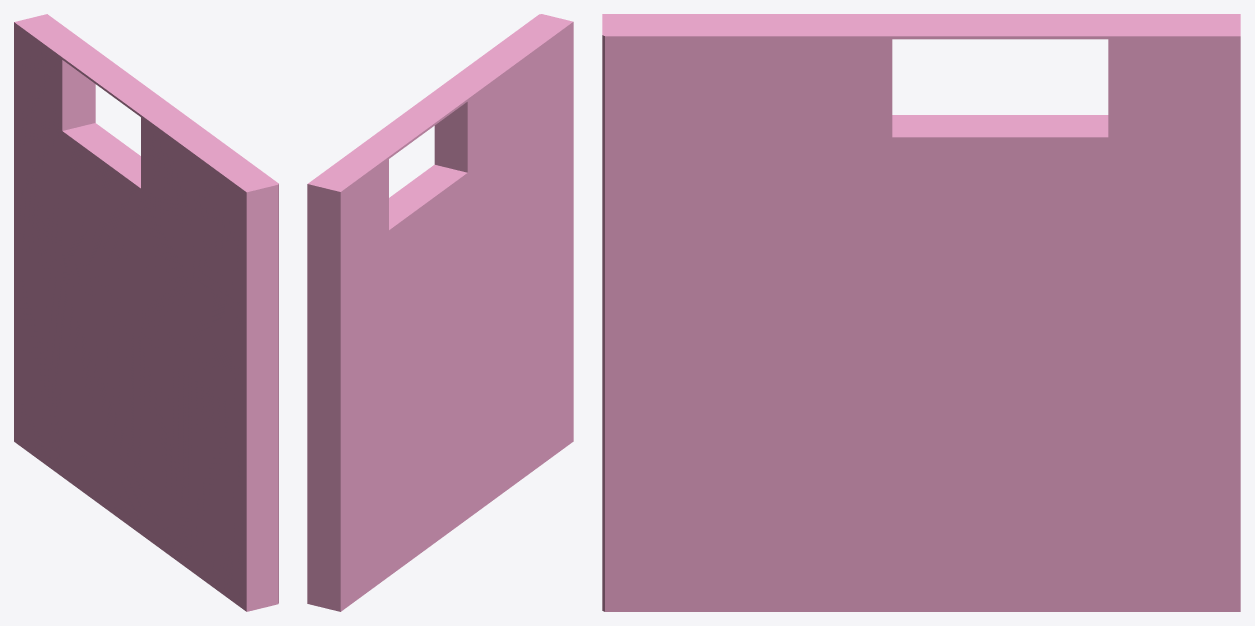
The model's file is Wall_Fixed.fbx.
The picture shows the model from 3 angles, left to right: view 1: azimuth 30°, elevation 25°; view 2: azimuth 150°, elevation 25°; view 3: azimuth 270°, elevation 25°; orthographic projection. The views are drawn at different scales.
Parts seen in each view (by area): view 1: Wall_Base.002; view 2: Wall_Base.002; view 3: Wall_Base.002.
Part boxes in pixels (x1,y1,x2,y2): Wall_Base.002: [14, 14, 278, 611]; Wall_Base.002: [307, 14, 573, 611]; Wall_Base.002: [602, 14, 1240, 611].
Bounding box in the file's own units: 8.54 × 103 × 104.
